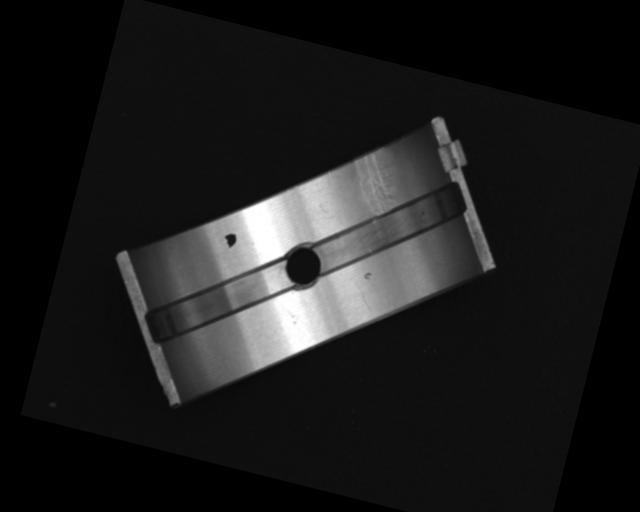blot: (222, 230, 239, 249)
bruise: (362, 270, 373, 281)
gap: (309, 152, 471, 298), (139, 233, 297, 371)
hole: (280, 242, 326, 292)
scratch: (341, 141, 408, 224)
